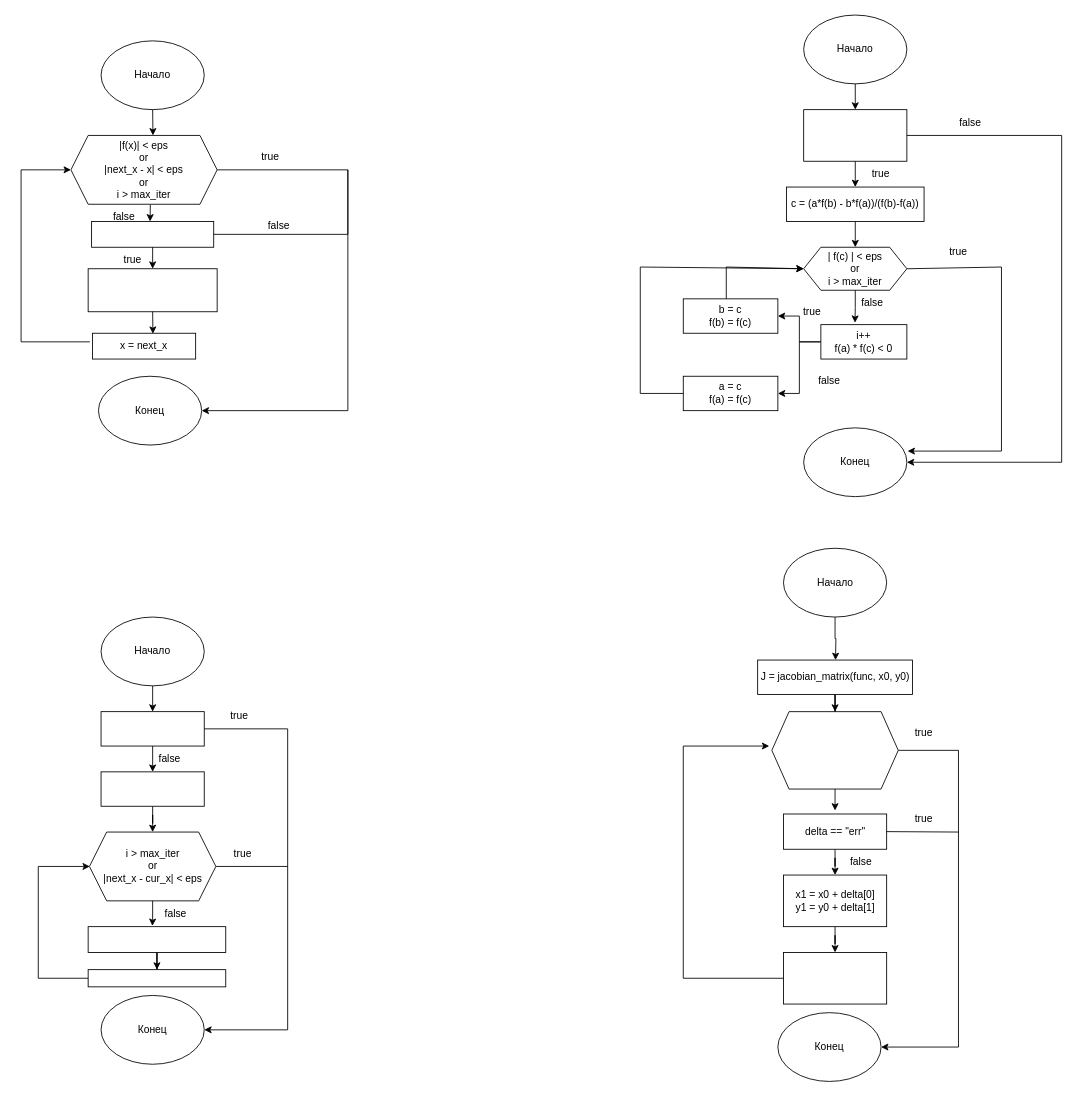
The diagram is 1084 pixels wide and 1097 high, and some of its shapes have lost their labels. The centre of each missing label's shape, as x and y in pixels:
cur_x = next_x: point 156,978
df(x) != 0: point 152,234
f(a) * f(b) < 0: point 855,135
i > max_iter or max(|...in f(x)|) < eps or max(errX, errY) < eps: point 834,750
max(df(a), df(b)) == 0: point 152,728
next_x = cur_x + λ * f(cur_x): point 156,939
next_x = x - f(x) / df(x): point 152,290
x0 = x1 y0 = y1: point 835,978
λ = 1/max(df(a), df(b)) cur_x = (a + b) / 2: point 152,788
